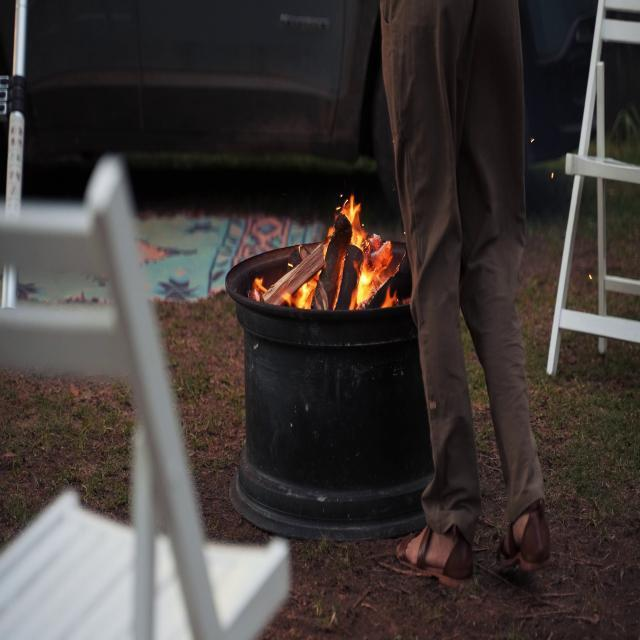Fire: (293, 189, 396, 310), (335, 190, 397, 308)
